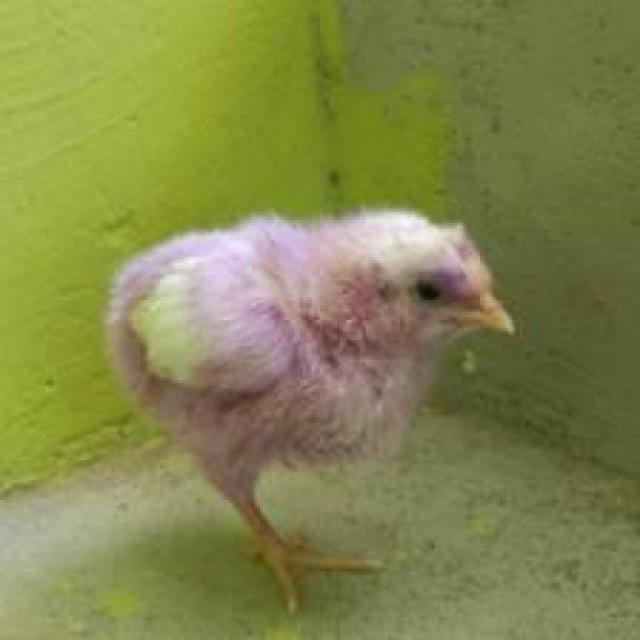Chicken: (102, 193, 532, 631)
